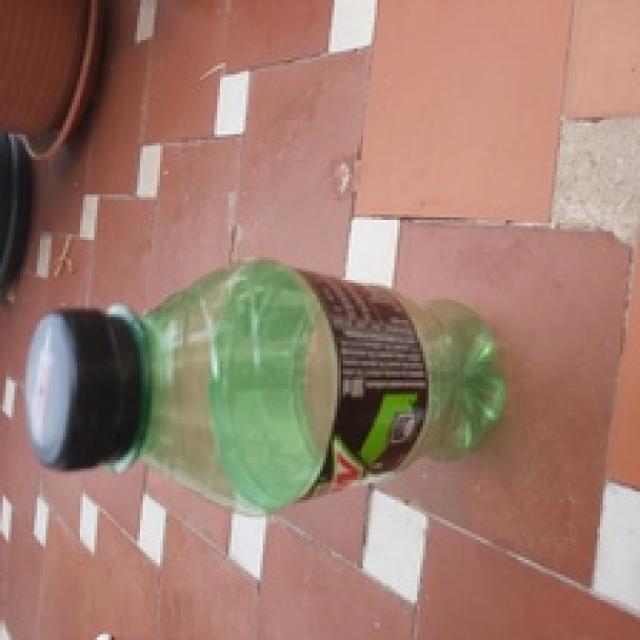Plastic: (25, 258, 502, 512)
